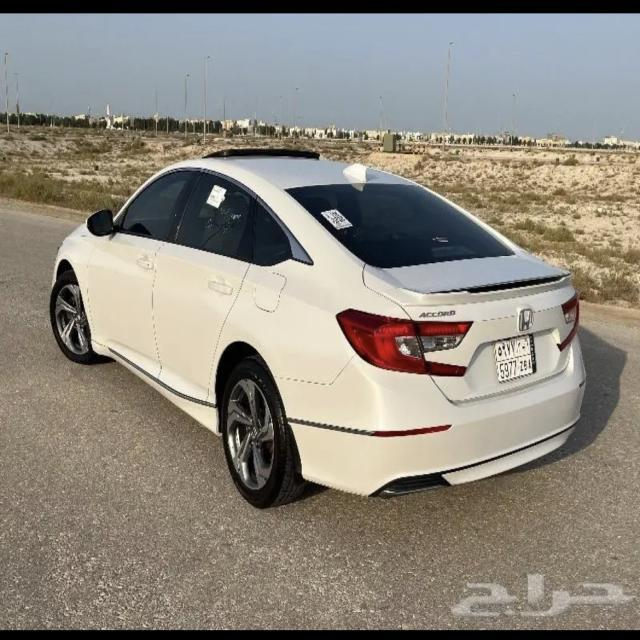license_plate: (493, 333, 538, 381)
